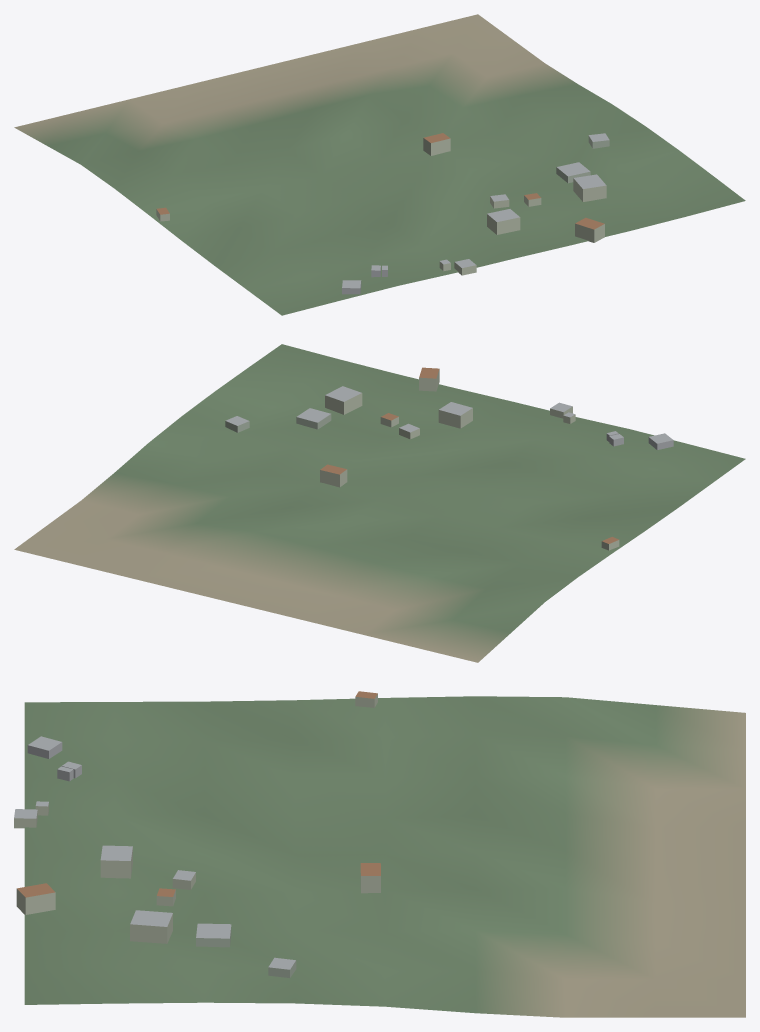
The picture shows the model from 3 angles, top to bottom: view 1: azimuth 30°, elevation 25°; view 2: azimuth 150°, elevation 25°; view 3: azimuth 270°, elevation 25°; orthographic projection. The views are drawn at different scales.
Visible parts, largest first — view 1: Lo; view 2: Lo; view 3: Lo.
Boxes of the visible parts, box(x1,y1,x2,y2) form: Lo: box(14, 14, 745, 315); Lo: box(14, 344, 745, 662); Lo: box(14, 691, 745, 1017).
Bounding box in the file's own units: 256 × 11.67 × 260.
